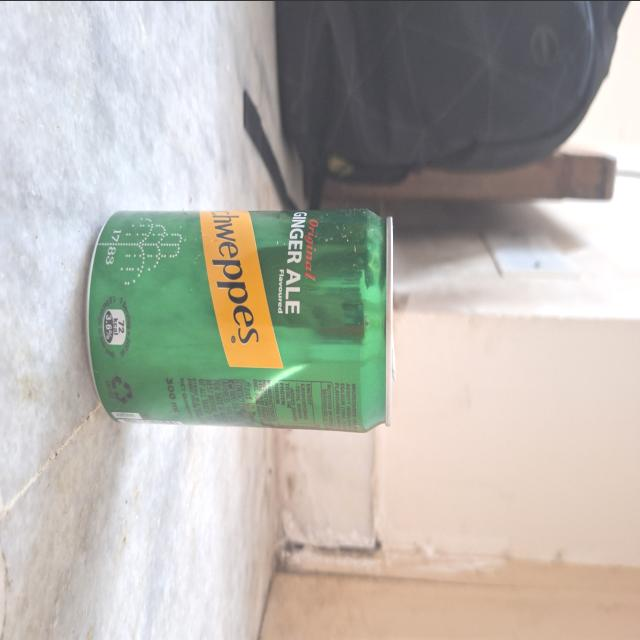Schweppes: (83, 195, 400, 430)
